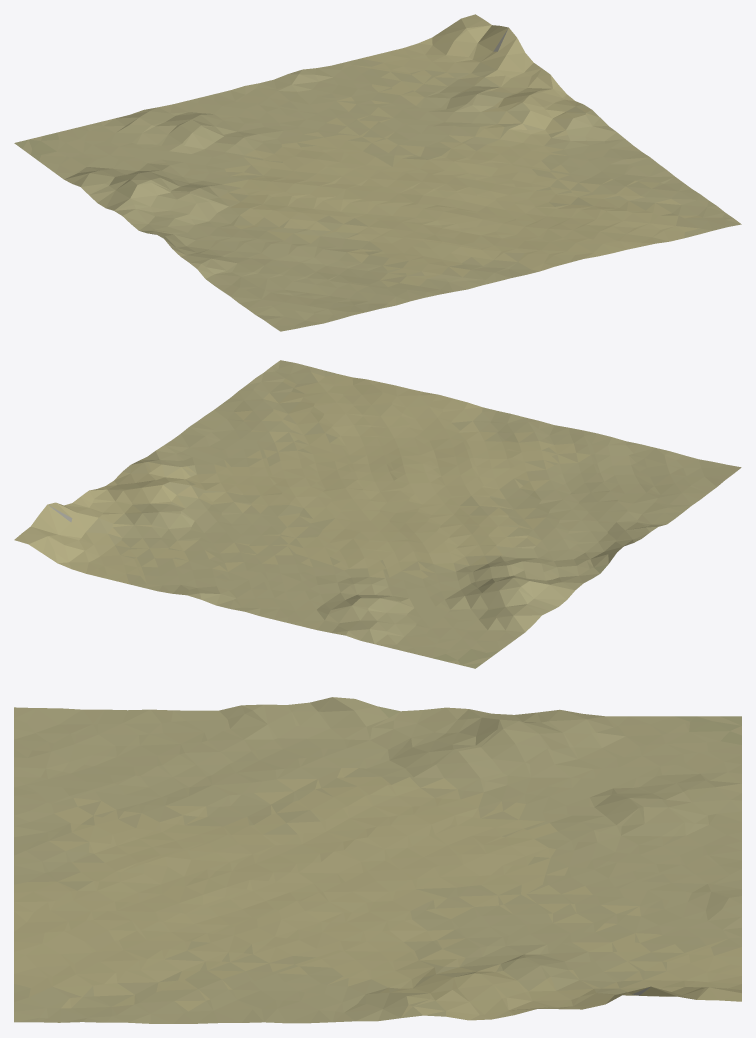
Rendered from Ground_2_4.glb.
The picture shows the model from 3 angles, top to bottom: view 1: azimuth 30°, elevation 25°; view 2: azimuth 150°, elevation 25°; view 3: azimuth 270°, elevation 25°; orthographic projection. The views are drawn at different scales.
Parts seen in each view (by area): view 1: Ground_2_4; view 2: Ground_2_4; view 3: Ground_2_4.
Part boxes in pixels (x1,y1,x2,y2): Ground_2_4: [14, 14, 741, 331]; Ground_2_4: [14, 360, 741, 668]; Ground_2_4: [14, 697, 741, 1023].
Size of the model in its own units: 768 by 43.42 by 768.
